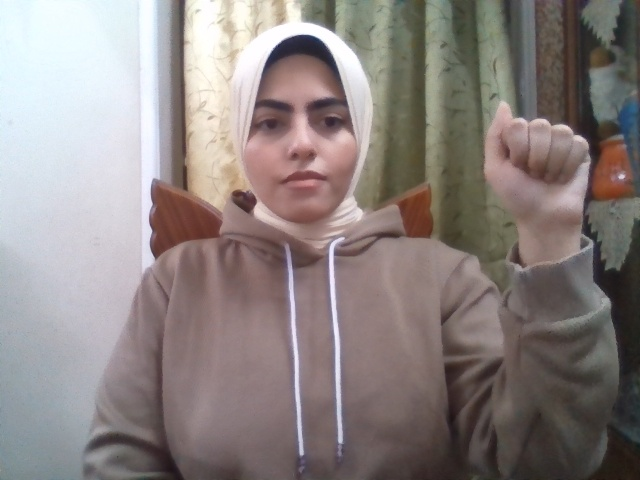A: (484, 102, 591, 223)
